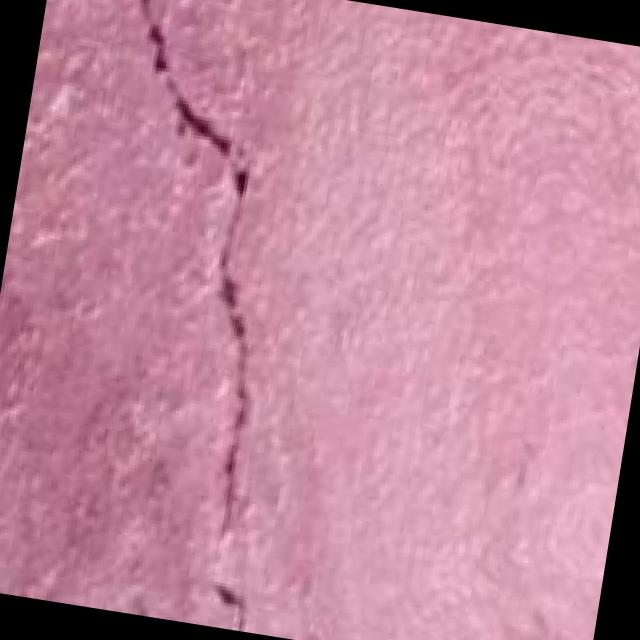crack: (11, 0, 402, 638)
